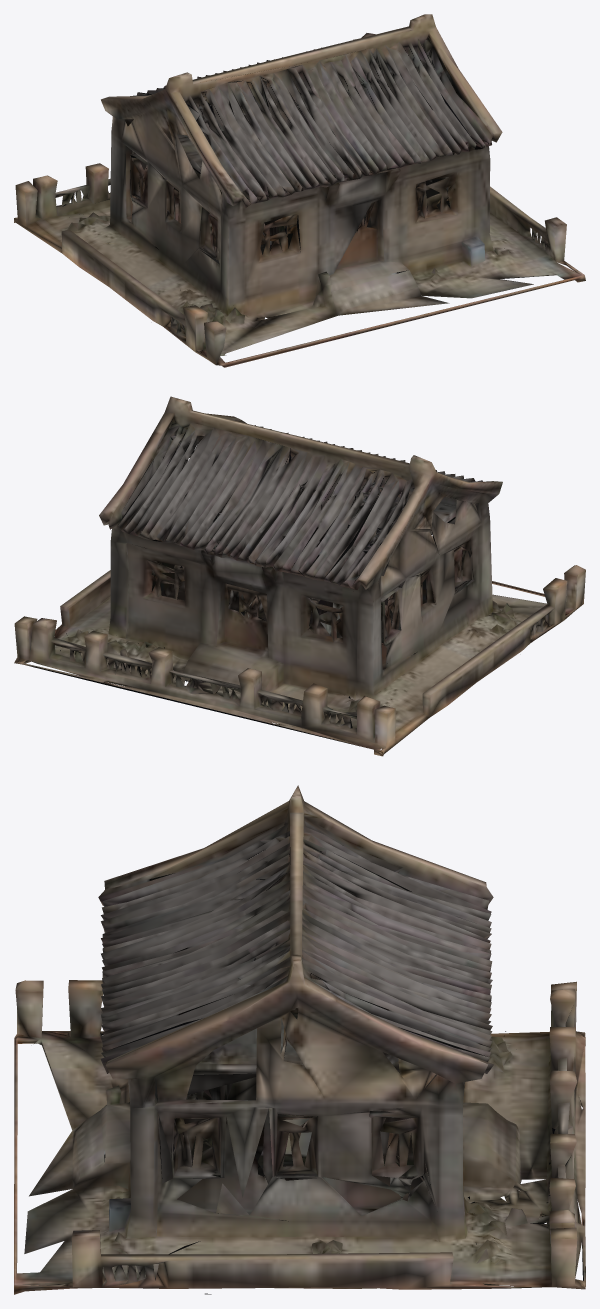
3 renders of one model, top to bottom at view 1: azimuth 30°, elevation 25°; view 2: azimuth 150°, elevation 25°; view 3: azimuth 270°, elevation 25°, orthographic. The views are drawn at different scales.
Parts seen in each view (by area): view 1: lo; view 2: lo; view 3: lo.
Boxes of the visible parts, <box> form: lo: <box>14,14,585,367</box>; lo: <box>14,396,585,756</box>; lo: <box>14,785,585,1294</box>.
Size of the model in its own units: 1.89 by 1.01 by 1.78.
Materials: 1 (1 with a texture image).
